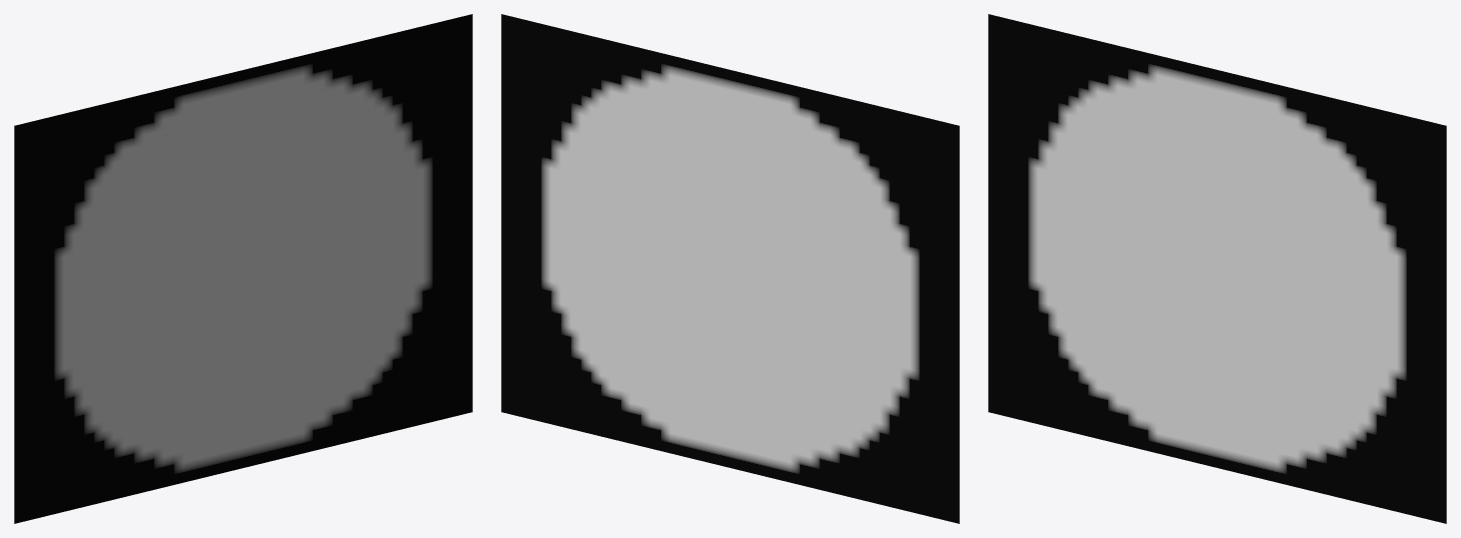
3 renders of one model, left to right at view 1: azimuth 30°, elevation 25°; view 2: azimuth 150°, elevation 25°; view 3: azimuth 330°, elevation 25°, orthographic.
Visible parts, largest first — view 1: Joint_0_Object_0; view 2: Joint_0_Object_0; view 3: Joint_0_Object_0.
Boxes of the visible parts, x1,y1,x2,y2 form: Joint_0_Object_0: (14, 14, 472, 523); Joint_0_Object_0: (501, 14, 959, 523); Joint_0_Object_0: (988, 14, 1446, 523).
Bounding box in the file's own units: 31.02 × 25.74 × 0.
Materials: 1 (1 with a texture image).
